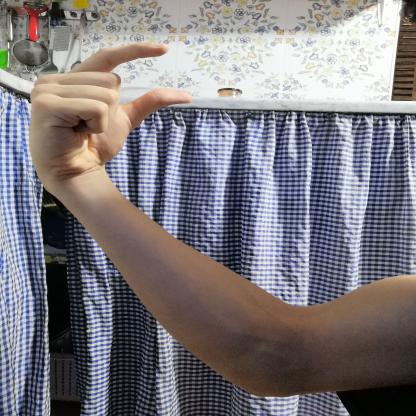DELL: (16, 34, 204, 192)
